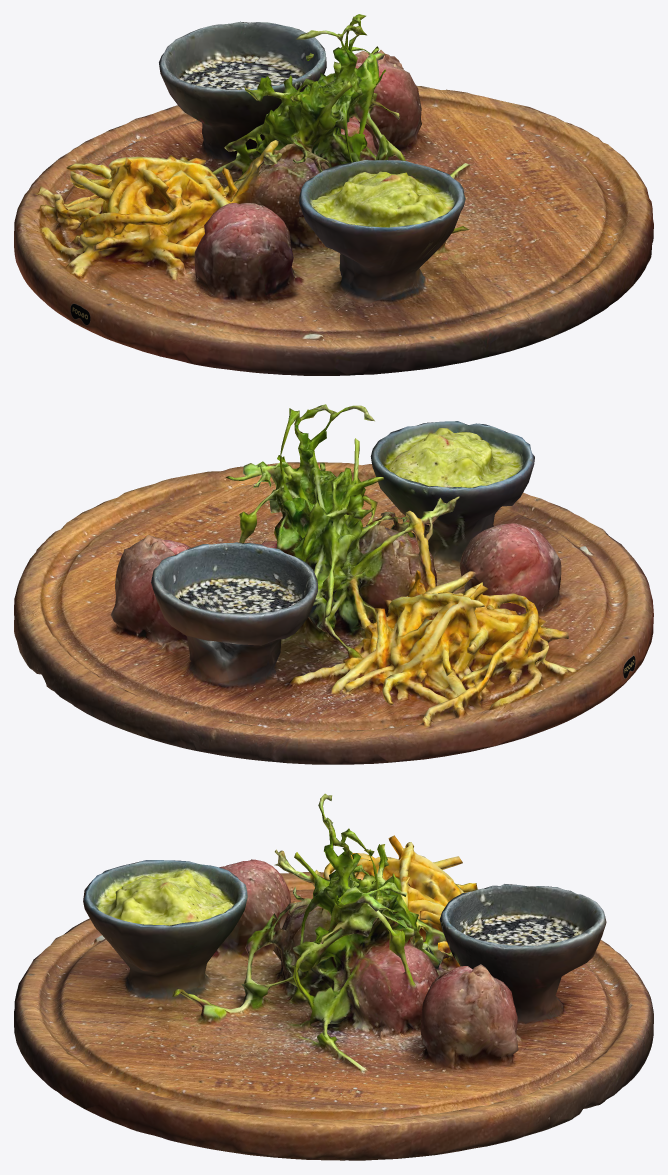
The model's file is crispy-steak-(asado).glb.
3 renders of one model, top to bottom at view 1: azimuth 30°, elevation 25°; view 2: azimuth 150°, elevation 25°; view 3: azimuth 270°, elevation 25°, orthographic.
Parts seen in each view (by area): view 1: baked_mesh; view 2: baked_mesh; view 3: baked_mesh.
Boxes of the visible parts, left/top/right/bottom form: baked_mesh: left=14, top=14, right=653, bottom=375; baked_mesh: left=14, top=404, right=653, bottom=764; baked_mesh: left=14, top=793, right=653, bottom=1160.
Bounding box in the file's own units: 0.9296 × 0.3625 × 0.9301.
3 materials, 3 textured.
